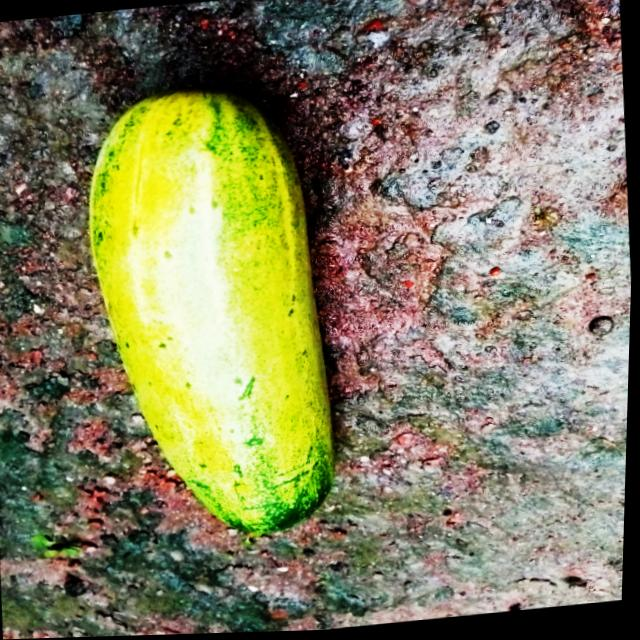Fresh-Cucumber: (70, 74, 356, 557)
